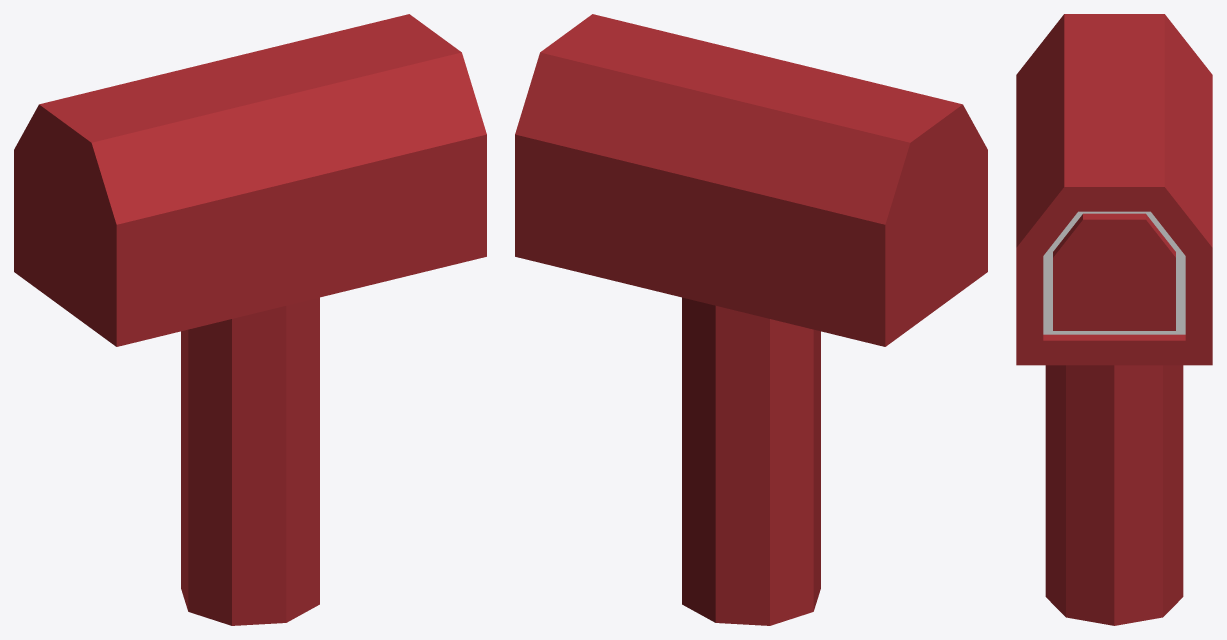
The model's file is Mailbox.fbx.
3 views of the same model, side by side, from view 1: azimuth 30°, elevation 25°; view 2: azimuth 150°, elevation 25°; view 3: azimuth 270°, elevation 25° (orthographic). The views are drawn at different scales.
Visible parts, largest first — view 1: Cube; view 2: Cube; view 3: Cube.
Part boxes in pixels (x1,y1,x2,y2): Cube: [14, 14, 486, 625]; Cube: [515, 14, 987, 625]; Cube: [1016, 14, 1212, 625].
Bounding box in the file's own units: 257 × 343 × 123.
